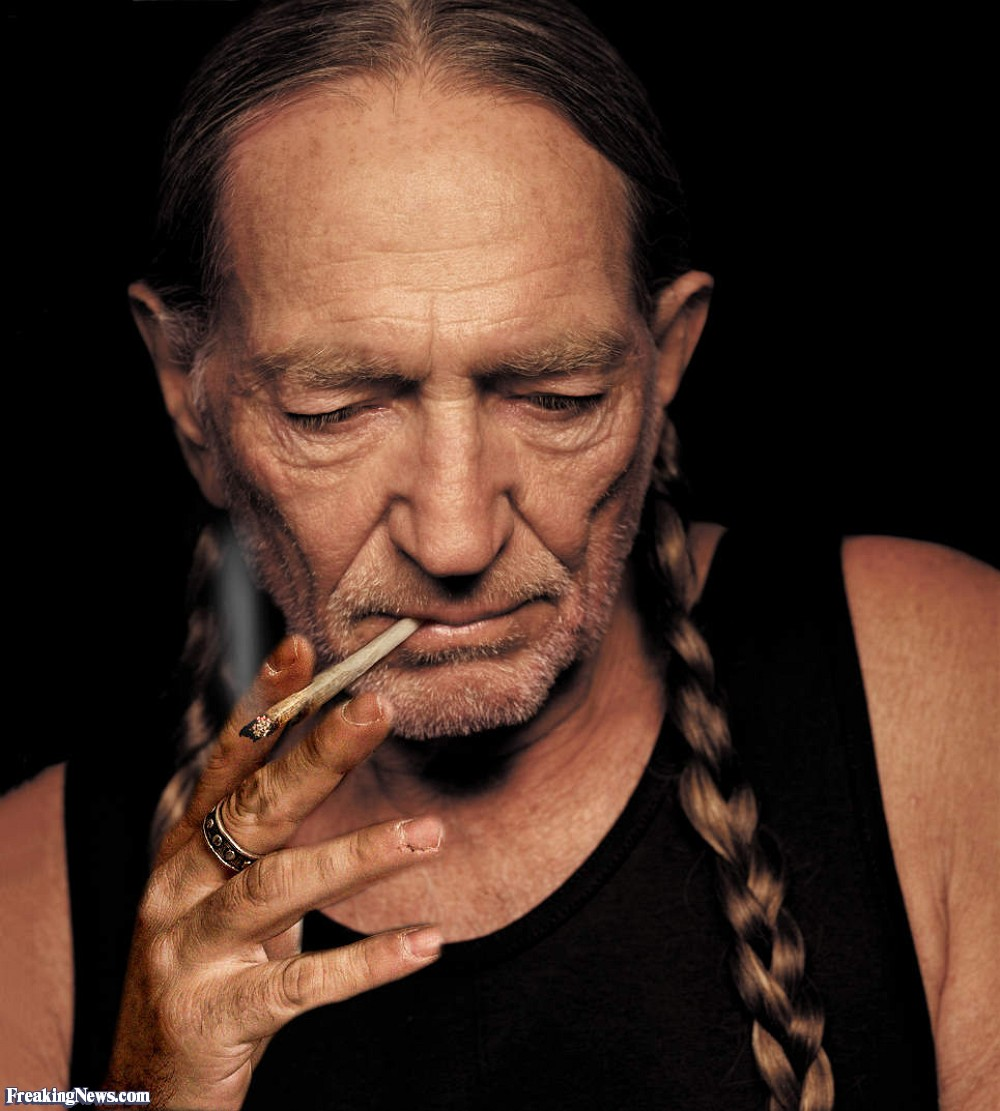cigarette: (216, 601, 438, 741)
